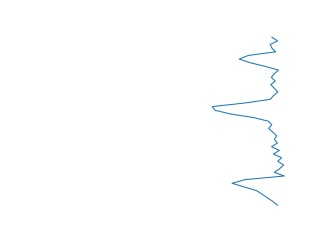underwaterNaturalLevee: (209, 35, 291, 206)
